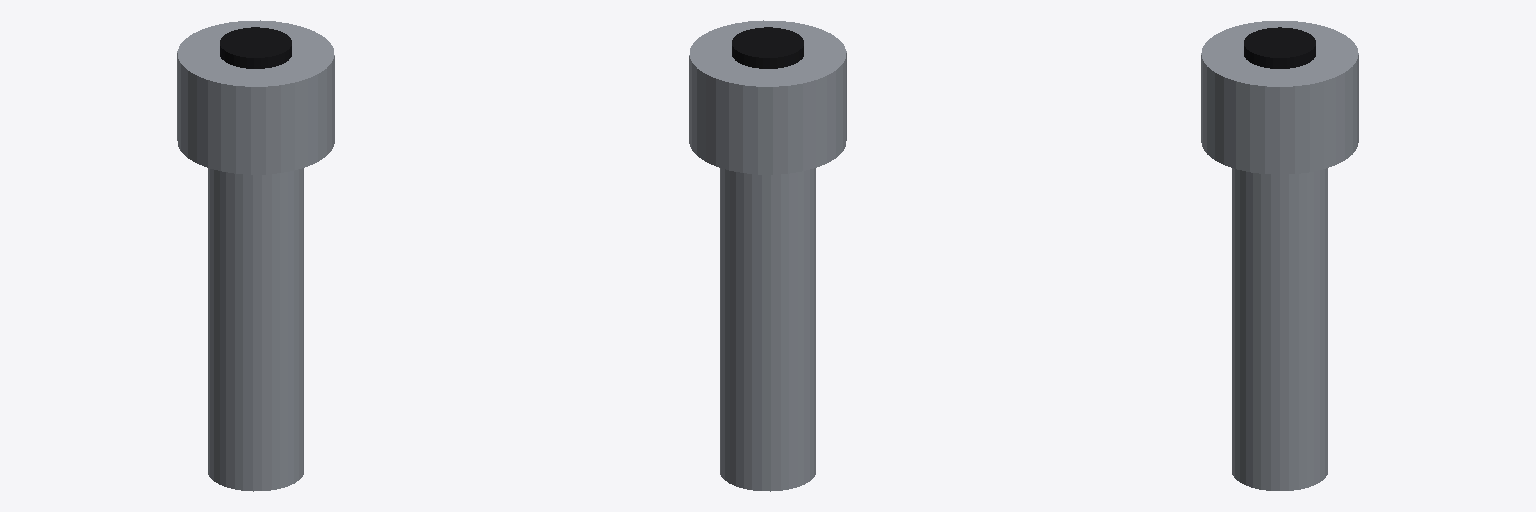
The robot description file, URDF, robot "screw_m8":
<?xml version="1.0" ?>
<!-- DIN 912 M8x30 hexagon socket head cap screw, as used by the task board's
     Screws and Nuts modules (head 13 mm dia x 8 mm, shank 8 mm dia x 30 mm).
     Origin is the seating face (underside of the head), +z out of the board, so a
     seated screw is spawned at [hole_x, hole_y, board_top_z] with no extra offset.
     Geometry is primitive on purpose: dozens of these get spawned per run. -->
<robot name="screw_m8">
  <link name="baseLink">
    <contact>
      <lateral_friction value="0.8"/>
      <rolling_friction value="0.001"/>
    </contact>
    <inertial>
      <origin rpy="0 0 0" xyz="0 0 -0.011"/>
      <mass value="0.020"/>
      <inertia ixx="1.58e-6" ixy="0" ixz="0" iyy="1.58e-6" iyz="0" izz="1.6e-7"/>
    </inertial>

    <visual>
      <origin rpy="0 0 0" xyz="0 0 0.004"/>
      <geometry>
        <cylinder radius="0.0065" length="0.008"/>
      </geometry>
      <material name="steel">
        <color rgba="0.62 0.64 0.67 1"/>
      </material>
    </visual>
    <collision>
      <origin rpy="0 0 0" xyz="0 0 0.004"/>
      <geometry>
        <cylinder radius="0.0065" length="0.008"/>
      </geometry>
    </collision>

    <visual>
      <origin rpy="0 0 0" xyz="0 0 -0.015"/>
      <geometry>
        <cylinder radius="0.004" length="0.030"/>
      </geometry>
      <material name="steel"/>
    </visual>
    <collision>
      <origin rpy="0 0 0" xyz="0 0 -0.015"/>
      <geometry>
        <cylinder radius="0.004" length="0.030"/>
      </geometry>
    </collision>

    <visual>
      <origin rpy="0 0 0" xyz="0 0 0.0065"/>
      <geometry>
        <cylinder radius="0.003" length="0.005"/>
      </geometry>
      <material name="socket_dark">
        <color rgba="0.12 0.12 0.13 1"/>
      </material>
    </visual>
  </link>
</robot>

--- Facts derived from the render (not from the file) ---
Views: 3 orthographic renders of the robot side by side, from view 1: azimuth 30°, elevation 25°; view 2: azimuth 150°, elevation 25°; view 3: azimuth 270°, elevation 25°.
Model screw_m8 with 1 links and 0 joints (none), rooted at baseLink, posed every joint at zero.
Links seen in each view (by area): view 1: baseLink; view 2: baseLink; view 3: baseLink.
Boxes of the visible links, x1,y1,x2,y2 form: baseLink: (177,20,334,491); baseLink: (689,20,846,491); baseLink: (1201,21,1358,490).
Bounding box of the posed robot: 0.013 × 0.013 × 0.039 m (x, y, z).
Geometry: primitives only (box / cylinder / sphere), no mesh files.
